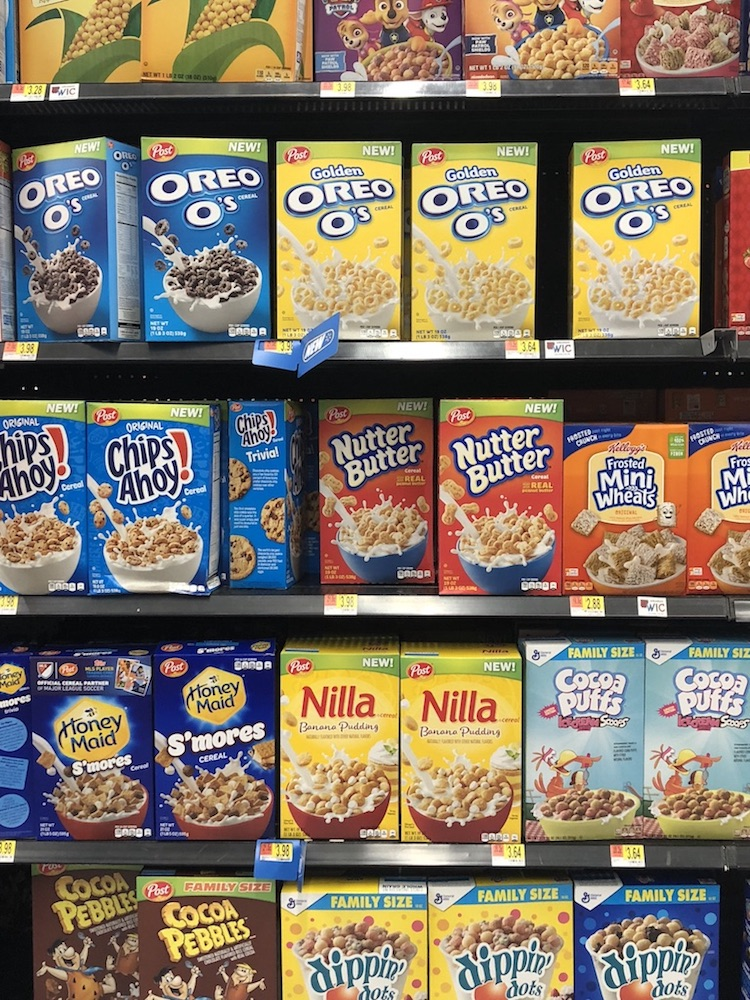Chips Ahoys-565717529: (84, 399, 213, 601), (1, 415, 87, 586)
Cocoa Pebbles-555517893: (134, 874, 275, 1000), (33, 866, 154, 999)
Cocoa Puffs Ice Cream-563408546: (520, 645, 642, 837), (644, 643, 750, 837)
Dippin Dots Banana-568929376: (425, 890, 570, 1000), (275, 895, 419, 1000)
Dippin Dots Cookies & Cream -568929378: (575, 884, 706, 1000)
Frosted Mini Original -9295869: (565, 422, 692, 594), (688, 420, 749, 599)
Honey Maid Graham -563424385: (138, 643, 277, 838), (35, 660, 150, 842)
Nilla -568301014: (395, 645, 529, 837), (281, 643, 399, 843)
Nutter Butter-565717511: (435, 406, 565, 590), (318, 405, 438, 588)
Oreo Golden-568301011: (270, 129, 407, 339), (566, 143, 704, 336), (410, 140, 536, 343)
Oreo-563424384: (137, 139, 280, 352), (1, 146, 136, 348)
